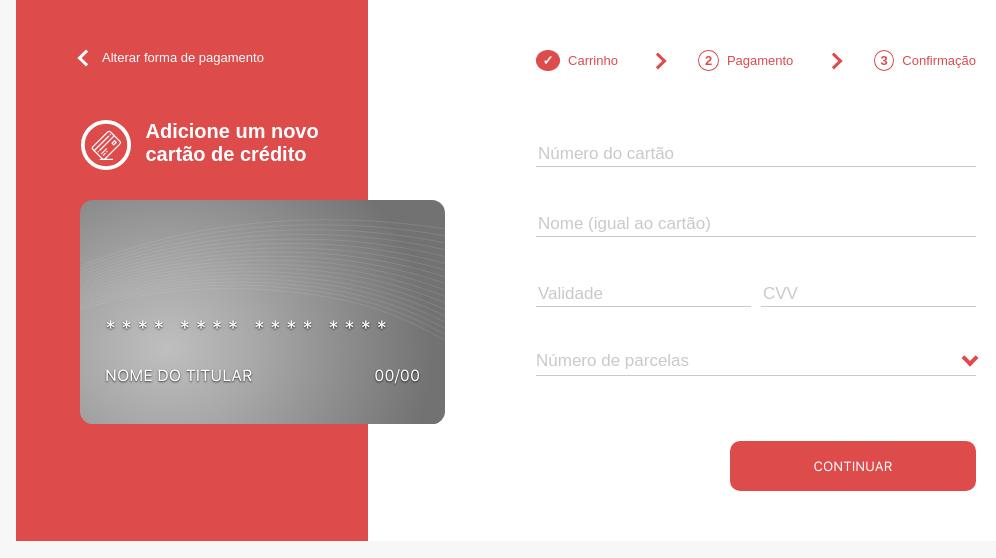
Scenario: Formulário de pagamento › Deve exibir erro quando enviar um cartão inválido
The width and height of the screenshot is (996, 558).
Type "7777 7777 7777 7777" into the field labelled "Número do cartão" at x=756, y=154, box left=536, top=141, right=976, bottom=167
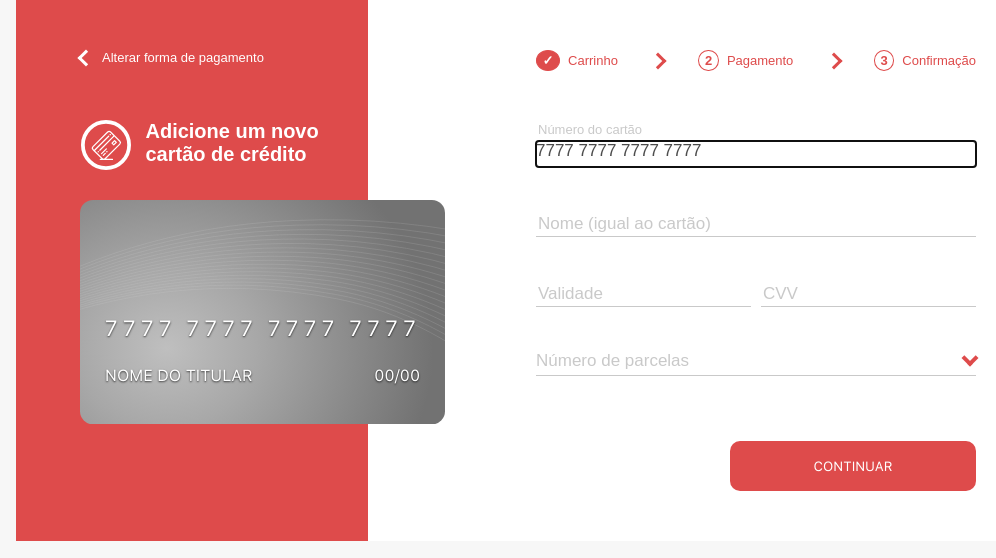
Submit the form with test id "payment-form", box left=536, top=141, right=976, bottom=491
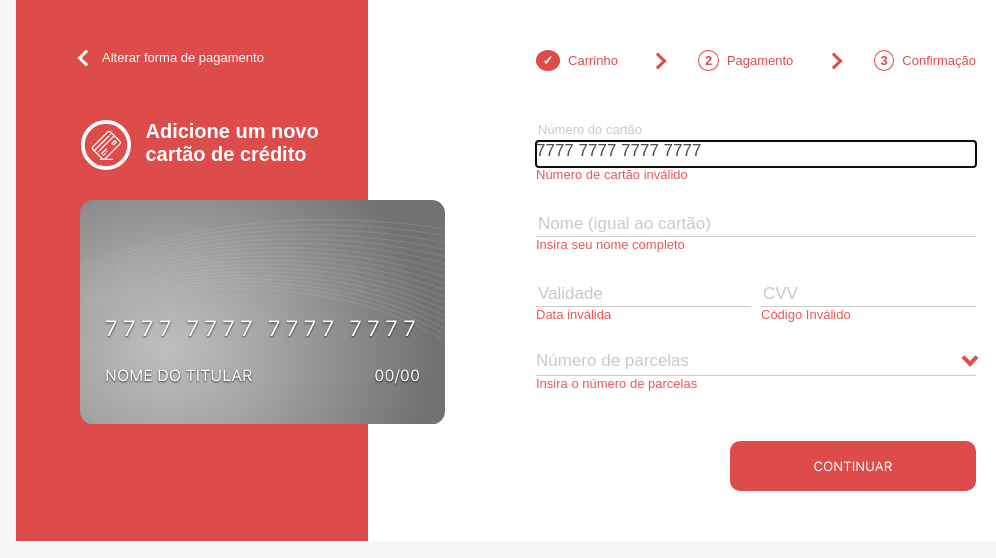
Check: the text "Número de cartão inválido" is shown, box left=536, top=167, right=688, bottom=182
